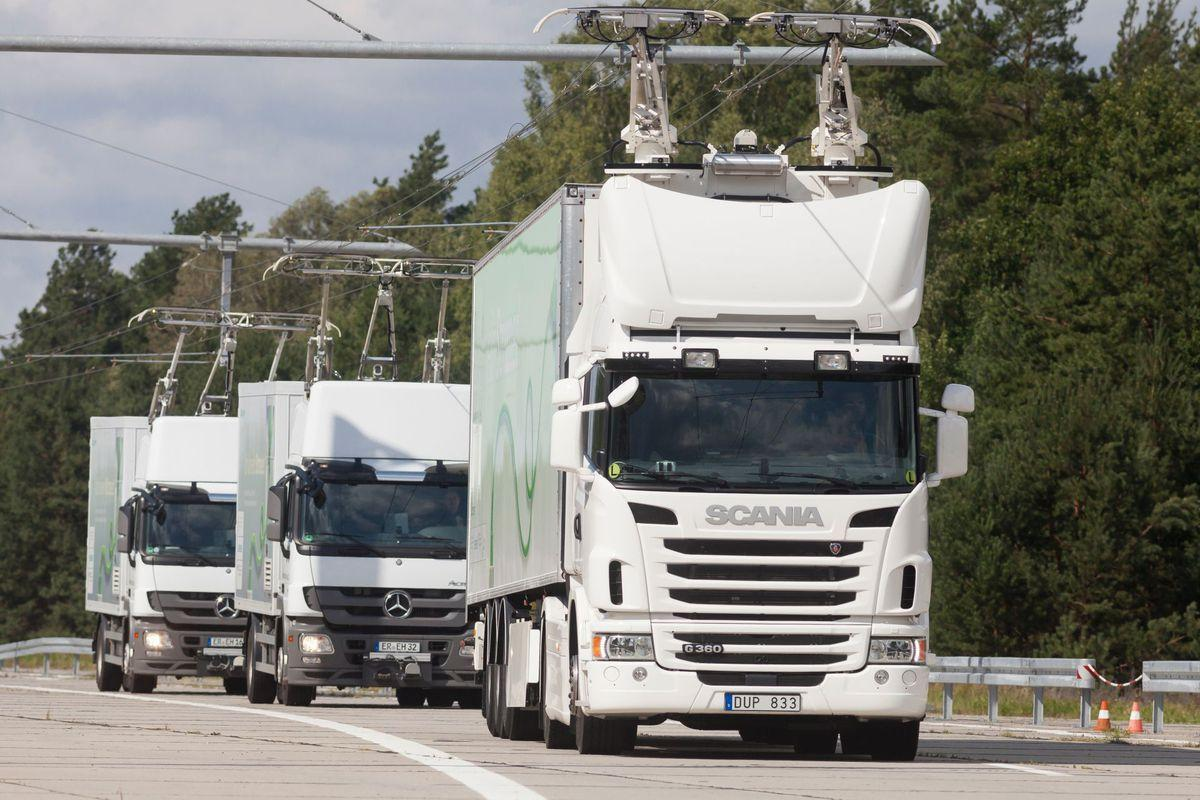truck: (470, 208, 978, 766)
